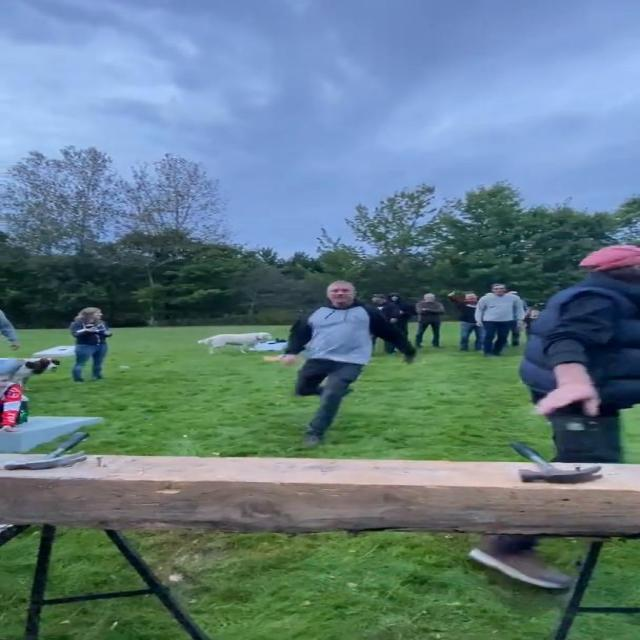hammer: (510, 440, 608, 489), (6, 428, 98, 474)
